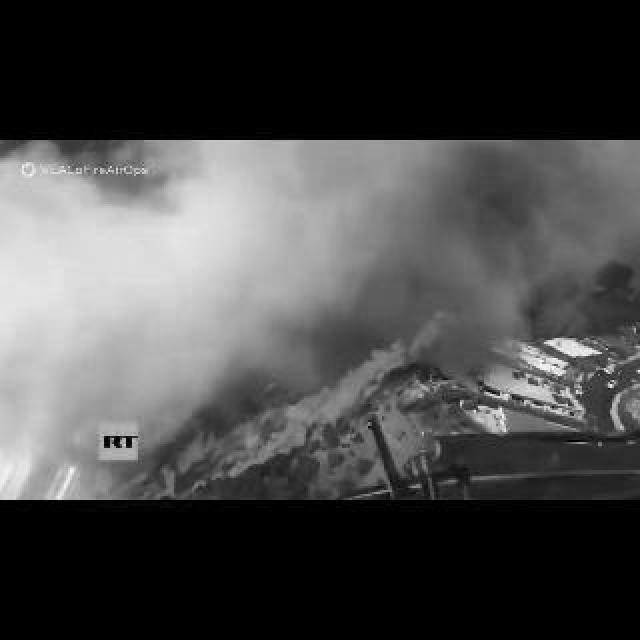Fire: (94, 314, 456, 498)
Smoke: (363, 139, 612, 391)
